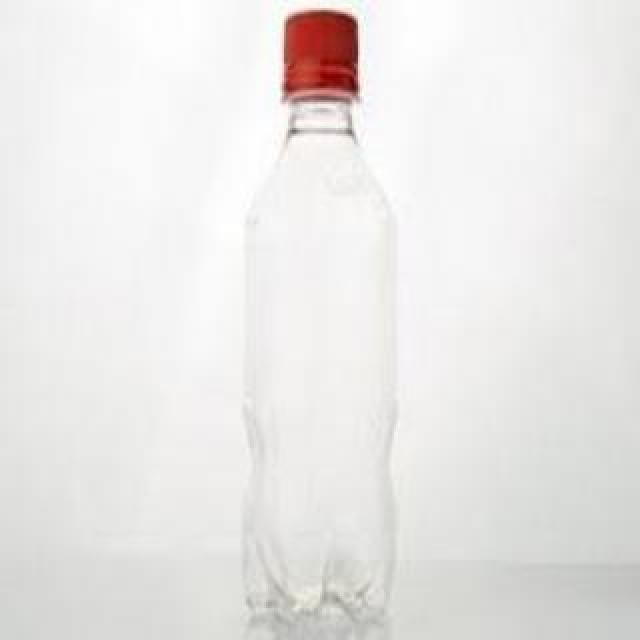Pet_Bottle: (240, 39, 400, 629)
